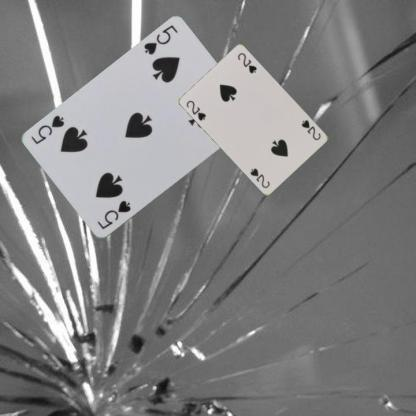2s: (298, 118, 322, 142), (184, 98, 208, 122)
5s: (141, 22, 179, 56), (95, 198, 132, 231)
